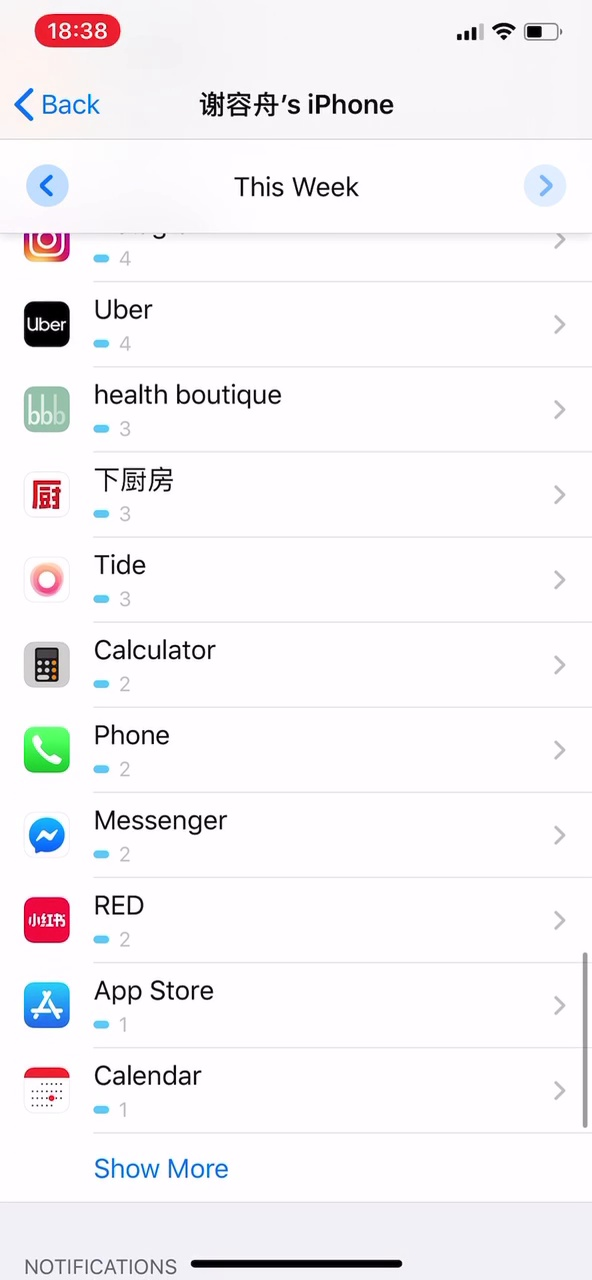pick_app: (11, 375, 302, 455), (11, 622, 272, 705), (11, 460, 302, 534), (18, 965, 276, 1047), (15, 791, 298, 865), (17, 881, 292, 956), (11, 544, 296, 611), (17, 1050, 247, 1133), (12, 709, 274, 781), (14, 279, 182, 369)
week: (223, 165, 370, 209)
